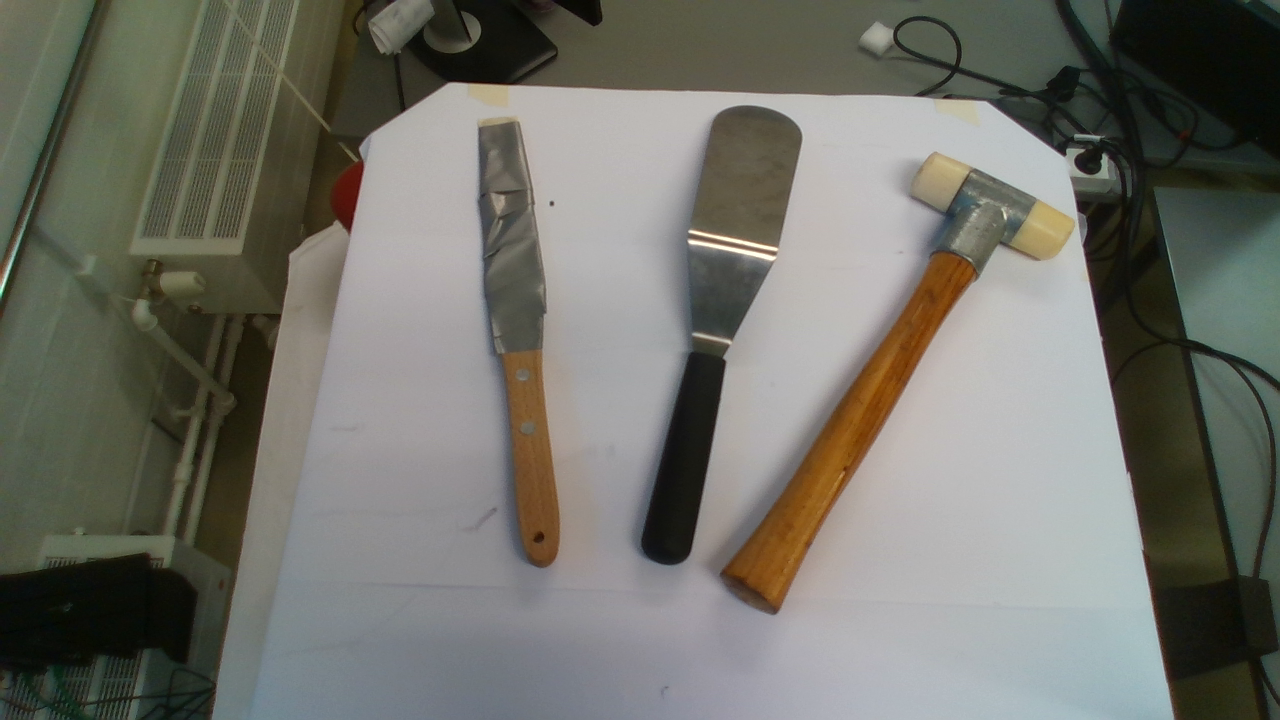knife: (476, 116, 569, 567)
spatula: (714, 151, 1076, 621), (635, 103, 802, 567)
